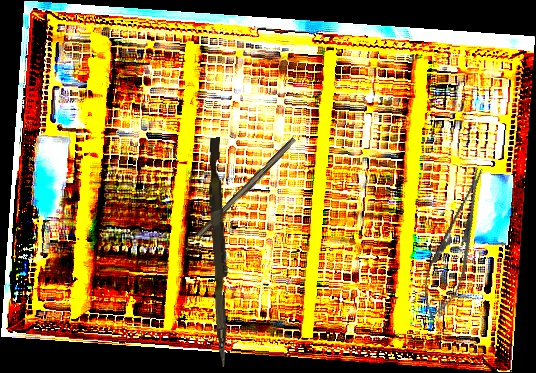Needle Holder: (412, 161, 499, 327)
Pusher: (203, 137, 236, 367)
Scalpel Handle: (196, 135, 298, 241)
